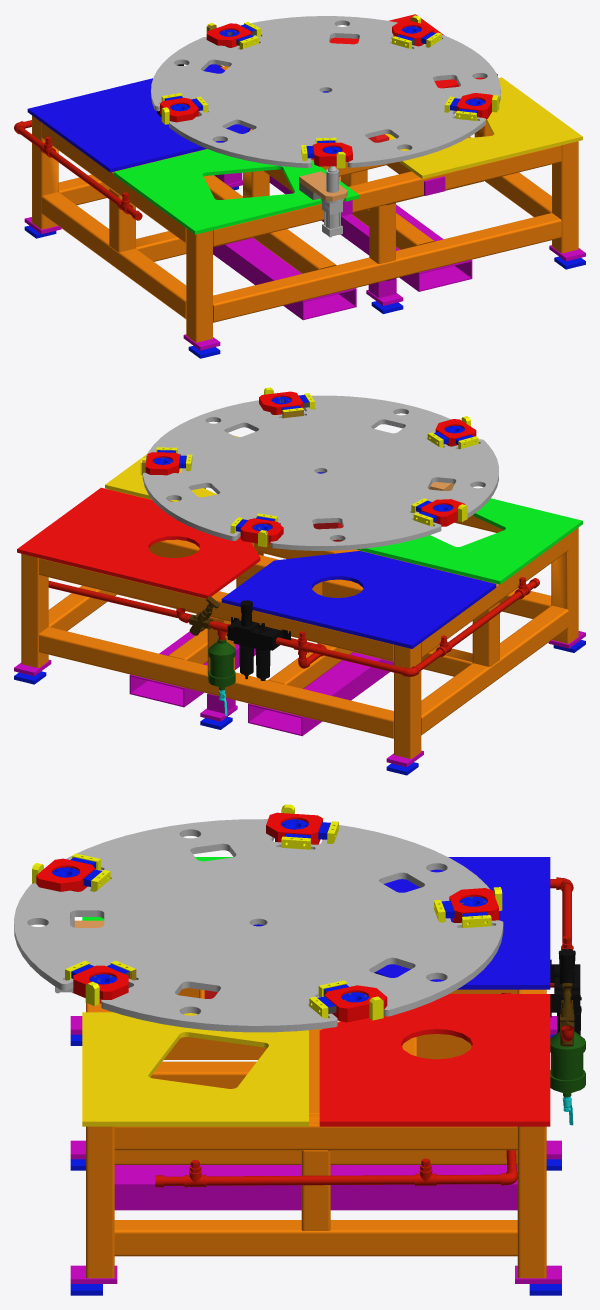
3 views of the same model, one above another, from view 1: azimuth 30°, elevation 25°; view 2: azimuth 150°, elevation 25°; view 3: azimuth 270°, elevation 25° (orthographic). The views are drawn at different scales.
Visible parts, largest first — view 1: P621BaseFram, P-06-621-02, P-06-621BaseB, P-06-621BaseC, P621BaseFram2, P-06-621BaseD, Tube, P621BaseFram3, 59F005, P-06-622-019, 59F008, P-06-622-027 (+4 smaller); view 2: P621BaseFram, P-06-621-02, P-06-621BaseB, P-06-621BaseA, P-06-621BaseC, P621BaseFram2, Tube, ParkerMainFRL, ASME, P-06-621BaseD, P621BaseFram3, P-06-622-027 (+5 smaller); view 3: P-06-621-02, P621BaseFram, P-06-621BaseA, P-06-621BaseD, P621BaseFram2, P-06-621BaseB, Tube, ASME, ParkerMainFRL, P621BaseFram3, P-06-622-026, P-06-622-019 (+8 smaller).
Boxes of the visible parts, left/top/right/bottom form: P621BaseFram: left=32, top=66, right=578, bottom=342; P-06-621-02: left=151, top=16, right=500, bottom=168; P-06-621BaseB: left=27, top=64, right=250, bottom=172; P-06-621BaseC: left=114, top=149, right=359, bottom=234; P621BaseFram2: left=24, top=172, right=585, bottom=350; P-06-621BaseD: left=385, top=77, right=582, bottom=179; Tube: left=14, top=120, right=142, bottom=220; P621BaseFram3: left=24, top=186, right=585, bottom=358; 59F005: left=299, top=171, right=347, bottom=201; P-06-622-019: left=313, top=142, right=352, bottom=166; 59F008: left=322, top=201, right=342, bottom=237; P-06-622-027: left=206, top=23, right=251, bottom=47; P621BaseFram: left=21, top=487, right=578, bottom=758; P-06-621-02: left=142, top=395, right=498, bottom=550; P-06-621BaseB: left=221, top=551, right=496, bottom=648; P-06-621BaseA: left=17, top=487, right=260, bottom=598; P-06-621BaseC: left=356, top=498, right=582, bottom=584; P621BaseFram2: left=14, top=631, right=585, bottom=766; Tube: left=48, top=577, right=539, bottom=676; ParkerMainFRL: left=226, top=600, right=290, bottom=680; ASME: left=208, top=638, right=235, bottom=690; P-06-621BaseD: left=105, top=435, right=239, bottom=501; P621BaseFram3: left=14, top=640, right=585, bottom=775; P-06-622-027: left=240, top=518, right=283, bottom=544; P-06-621-02: left=14, top=819, right=503, bottom=1032; P621BaseFram: left=86, top=988, right=546, bottom=1278; P-06-621BaseA: left=319, top=994, right=550, bottom=1126; P-06-621BaseD: left=82, top=1012, right=309, bottom=1126; P621BaseFram2: left=70, top=1016, right=561, bottom=1283; P-06-621BaseB: left=374, top=857, right=550, bottom=989; Tube: left=155, top=877, right=573, bottom=1187; ASME: left=550, top=1031, right=585, bottom=1097; ParkerMainFRL: left=550, top=949, right=581, bottom=1035; P621BaseFram3: left=70, top=1034, right=561, bottom=1295; P-06-622-026: left=324, top=985, right=387, bottom=1022; P-06-622-019: left=36, top=858, right=94, bottom=891.
Bounding box in the file's own units: 91.12 × 39.16 × 79.45.
